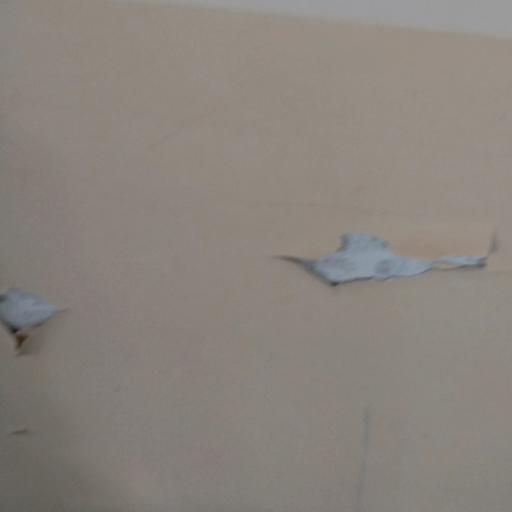peeling: (260, 194, 512, 306), (0, 274, 97, 382)
